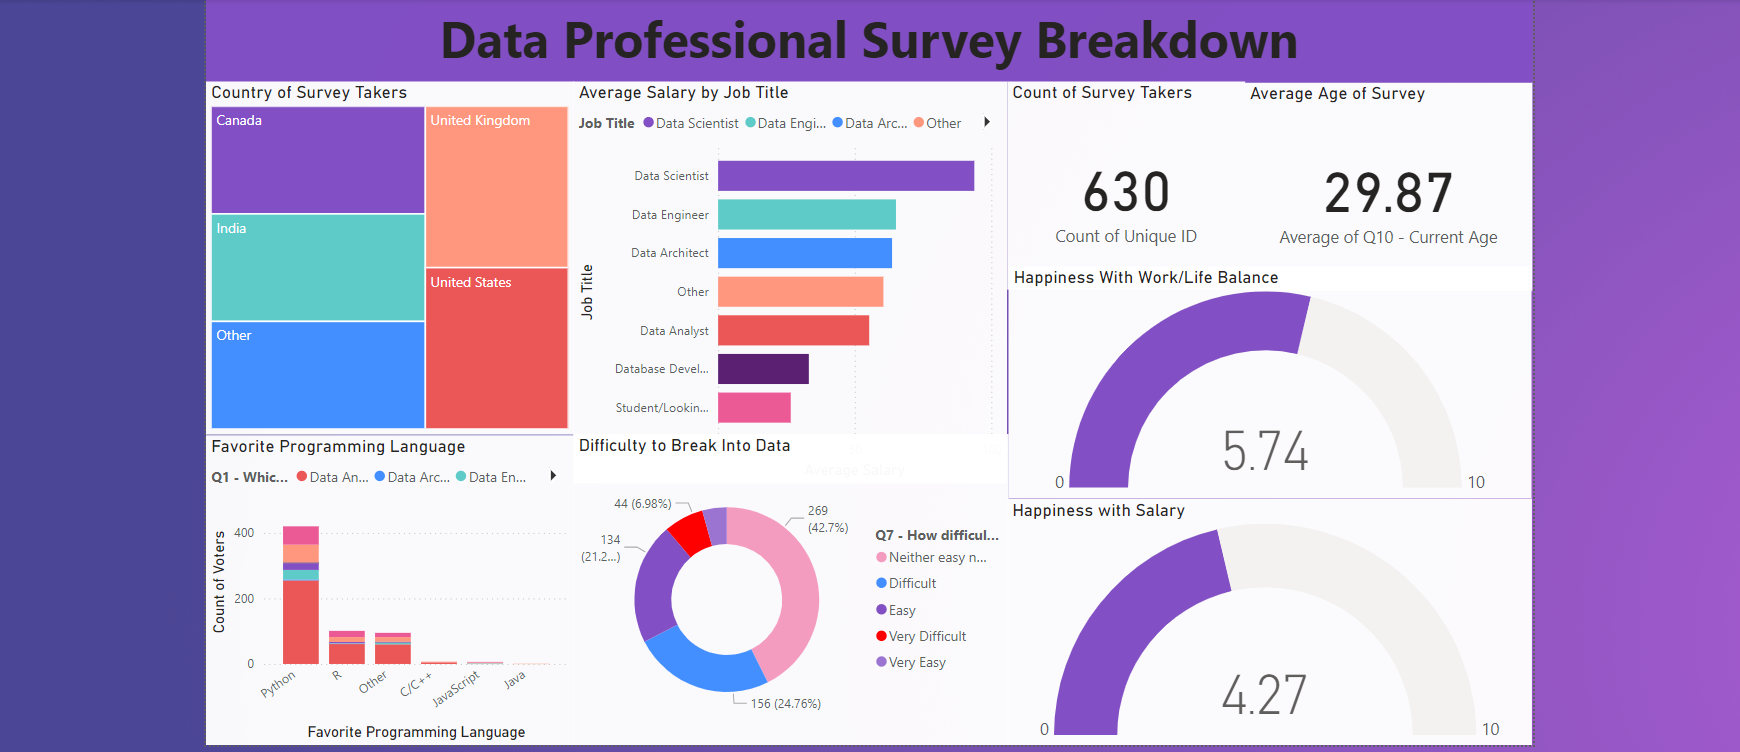

What the dashboard file says about the page in this screenshot:
{"tool":"powerbi","page":{"name":"Page 1","canvas":[1280,720],"ordinal":0},"visuals":[{"type":"textbox","box":[0,0,1280,80.8],"z":0},{"type":"card","title":"Count of Survey Takers","fields":{"Values":["Count(Data Professional Survey.Unique ID)"]},"box":[773.3,80,229.7,201],"z":1000},{"type":"card","title":"Average Age of Survey","fields":{"Values":["Avg(Data Professional Survey.Q10 - Current Age)"]},"box":[1002.4,81,277.6,200.5],"z":2000},{"type":"barChart","title":"Average Salary by Job Title","fields":{"Category":["Data Professional Survey.Q1 - Which Title Best Fits your Current Role?.1"],"Y":["Avg(Data Professional Survey.Average Salary)"],"Series":["Data Professional Survey.Q1 - Which Title Best Fits your Current Role?.1"]},"box":[354.9,80,418.5,387.7],"z":2001},{"type":"columnChart","title":"Favorite Programming Language","fields":{"Category":["Data Professional Survey.Q5 - Favorite Programming Language.1"],"Y":["CountNonNull(Data Professional Survey.Unique ID)"],"Series":["Data Professional Survey.Q1 - Which Title Best Fits your Current Role?.1"]},"box":[0,420.5,354.9,299.5],"z":2002},{"type":"treemap","title":"Country of Survey Takers","fields":{"Group":["Data Professional Survey.Q11 - Which Country do you live in?.1"],"Values":["Count(Data Professional Survey.Q11 - Which Country do you live in?.1)"]},"box":[0,80,354.9,340.5],"z":2003},{"type":"gauge","title":"Happiness With Work/Life Balance","fields":{"Y":["Avg(Data Professional Survey.Q6 - How Happy are you in your Current Position with the following? (Work/Life Balance))"],"MinValue":["Min(Data Professional Survey.Q6 - How Happy are you in your Current Position with the following? (Work/Life Balance))1"],"MaxValue":["Max(Data Professional Survey.Q6 - How Happy are you in your Current Position with the following? (Work/Life Balance))2"]},"box":[774.9,258.3,505.1,223.6],"z":2004},{"type":"gauge","title":"Happiness with Salary","fields":{"Y":["Avg(Data Professional Survey.Q6 - How Happy are you in your Current Position with the following? (Salary))"],"MinValue":["Min(Data Professional Survey.Q6 - How Happy are you in your Current Position with the following? (Salary))"],"MaxValue":["Max(Data Professional Survey.Q6 - How Happy are you in your Current Position with the following? (Salary))"]},"box":[773.3,482.1,506.7,237.9],"z":2005},{"type":"donutChart","title":"Difficulty to Break Into Data","fields":{"Category":["Data Professional Survey.Q7 - How difficult was it for you to break into Data?"],"Y":["CountNonNull(Data Professional Survey.Q7 - How difficult was it for you to break into Data?)"]},"box":[354.7,420.2,420.2,300.7],"z":2006}]}

Visuals, with their boxes in screenshot pixels (x1, y1, x2, y2):
textbox: crop(199, 0, 1518, 79)
"Count of Survey Takers" card: crop(996, 78, 1233, 285)
"Average Age of Survey" card: crop(1232, 79, 1518, 285)
"Average Salary by Job Title" barChart: crop(565, 78, 996, 477)
"Favorite Programming Language" columnChart: crop(199, 429, 565, 737)
"Country of Survey Takers" treemap: crop(199, 78, 565, 429)
"Happiness With Work/Life Balance" gauge: crop(998, 262, 1518, 492)
"Happiness with Salary" gauge: crop(996, 492, 1518, 737)
"Difficulty to Break Into Data" donutChart: crop(565, 428, 998, 738)
